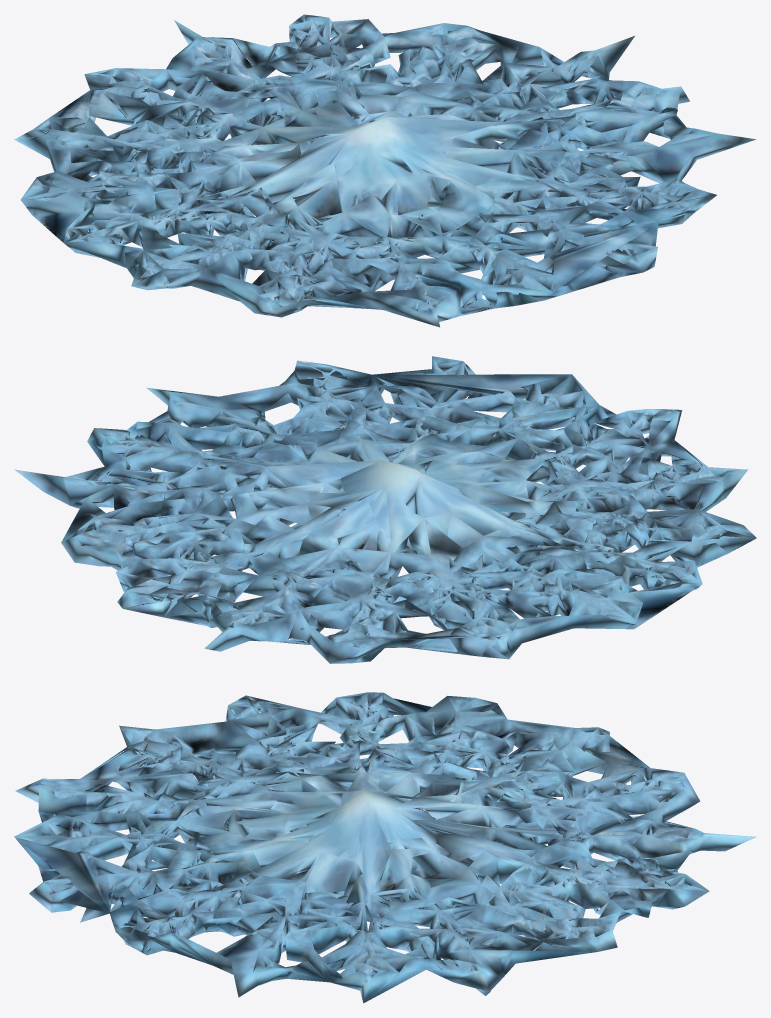
File: redCircle.glb
3 views of the same model, one above another, from view 1: azimuth 30°, elevation 25°; view 2: azimuth 150°, elevation 25°; view 3: azimuth 270°, elevation 25° (orthographic).
Bounding box in the file's own units: 1.84 × 0.1782 × 1.89.
Materials: 1 (1 with a texture image).
